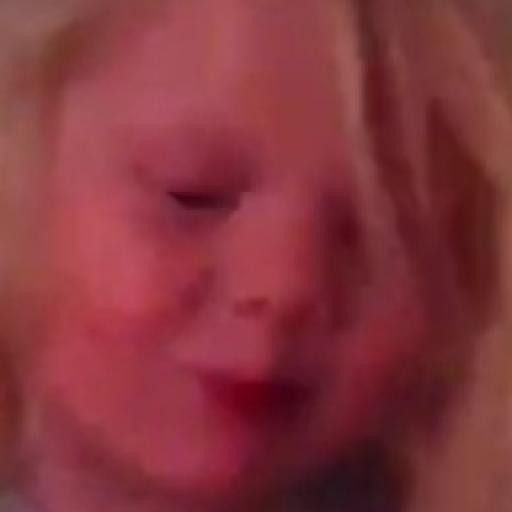Autism: (45, 26, 465, 500)
